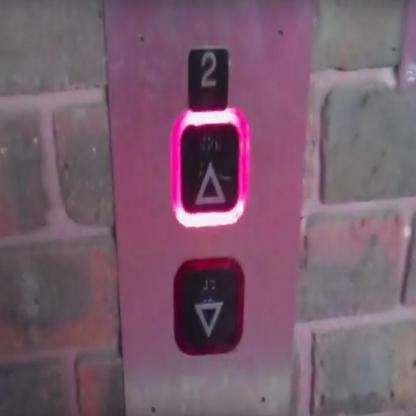2: (188, 46, 229, 113)
down: (174, 258, 246, 356)
up: (170, 107, 250, 227)
